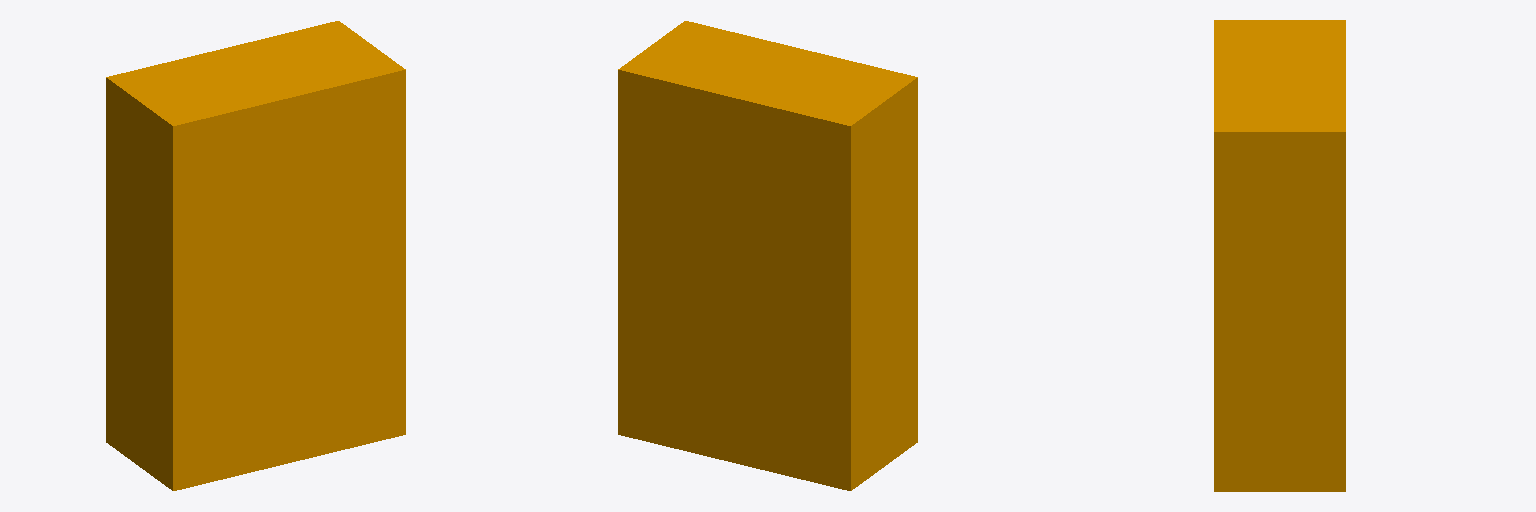
URDF robot description (Sponge):
<?xml version="1.0"?>
<robot name="Sponge">
  <link name="base_link">
    <inertial>
      <origin xyz="0.000000 0.000000 0.045000" rpy="0 0 0" />
      <mass value="0.162000" />
      <inertia ixx="0.00012150" ixy="-0.00000000" ixz="-0.00000000"
               iyy="0.00015795" iyz="0.00000000" izz="0.00006075" />
    </inertial>
    <visual>
      <geometry><mesh filename="Sponge.stl" scale="1.0 1.0 1.0" /></geometry>
    </visual>
    <collision>
      <geometry><mesh filename="Sponge_col.obj" scale="1.0 1.0 1.0" /></geometry>
    </collision>
    <contact>
      <lateral_friction value="1.0"/>
    </contact>
  </link>
</robot>

--- Facts derived from the render (not from the file) ---
Views: 3 orthographic renders of the robot side by side, from view 1: azimuth 30°, elevation 25°; view 2: azimuth 150°, elevation 25°; view 3: azimuth 270°, elevation 25°.
Robot: Sponge — 1 links, 0 joints (none); root link base_link; default pose: every joint at zero.
Links seen in each view (by area): view 1: base_link; view 2: base_link; view 3: base_link.
Boxes of the visible links, x1,y1,x2,y2 form: base_link: [106, 21, 405, 490]; base_link: [618, 21, 917, 490]; base_link: [1214, 20, 1345, 491].
Size in the robot's own frame: 0.06 by 0.03 by 0.09 metres.
1 mesh visuals loaded from 1 distinct referenced files (1 binary STL).
